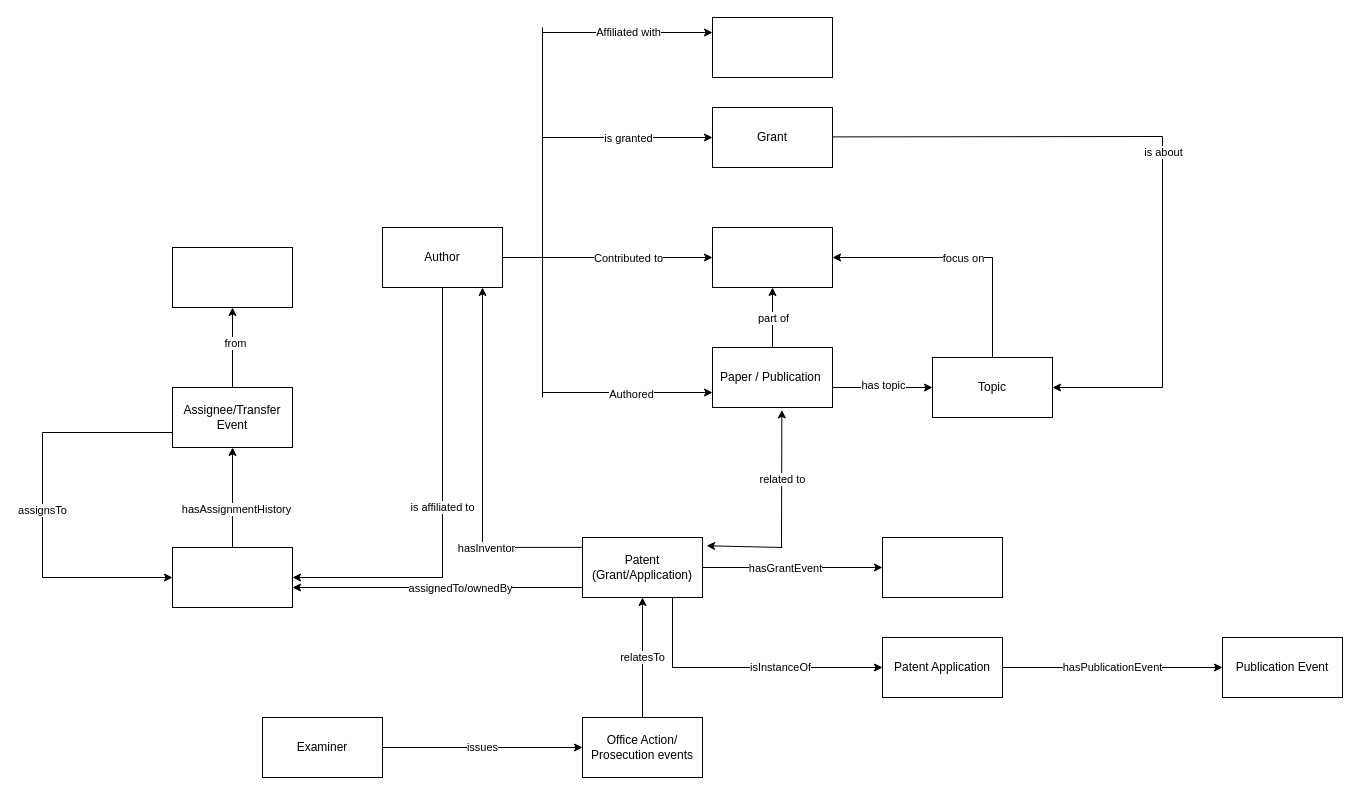
Image size: 1360x795. Some labels were removed from this diagram. The centre of each missing label's shape, as x and y in pixels:
"Assignee/Organisation" belongs at (x=232, y=577).
"Assignor (Agent)" belongs at (x=232, y=277).
"Grant Event/Legal Status" belongs at (x=942, y=567).
"Institution" belongs at (x=772, y=47).
"Trajectory" belongs at (x=772, y=257).
